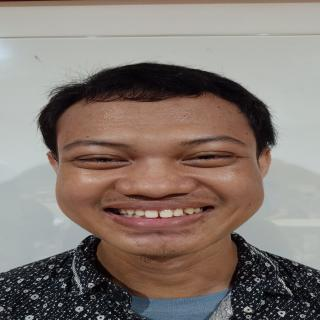Senang: (47, 87, 285, 261)
